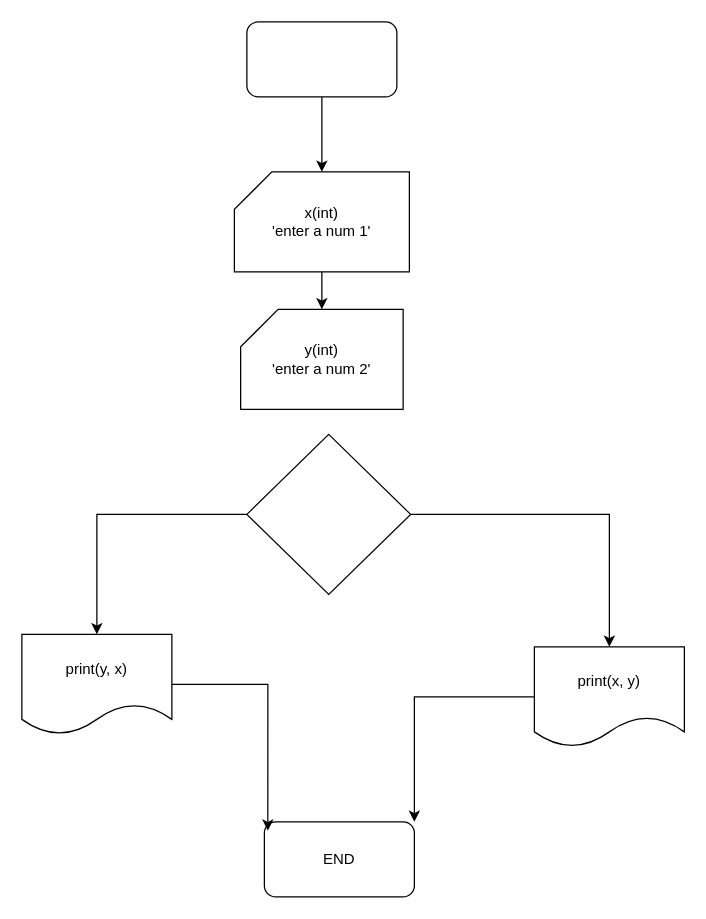
The diagram is 706 pixels wide and 919 high, and some of its shapes have lost their labels. The shapes that lost their labels are listed below. From the top down, each one's box as (x1, y1, x2, y2) in pixels, then its label:
(246, 21, 397, 97): START
(246, 433, 411, 594): x>y
